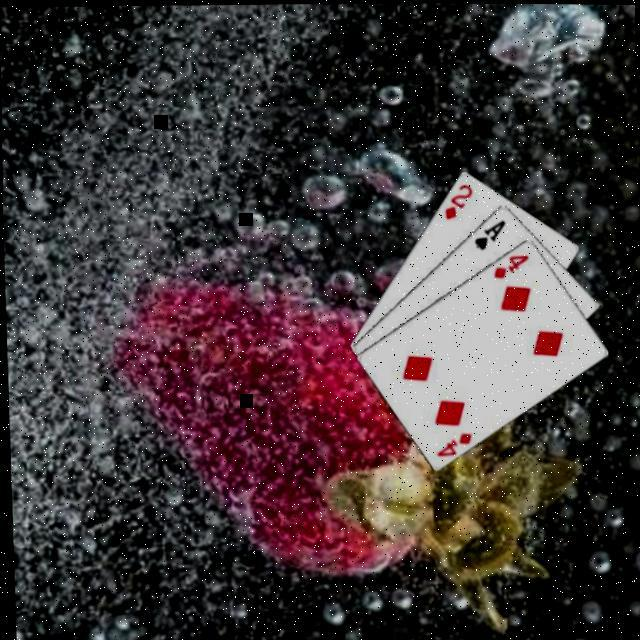2D: (438, 178, 473, 219)
4D: (486, 247, 529, 278), (428, 426, 471, 457)
AS: (466, 213, 505, 250)
